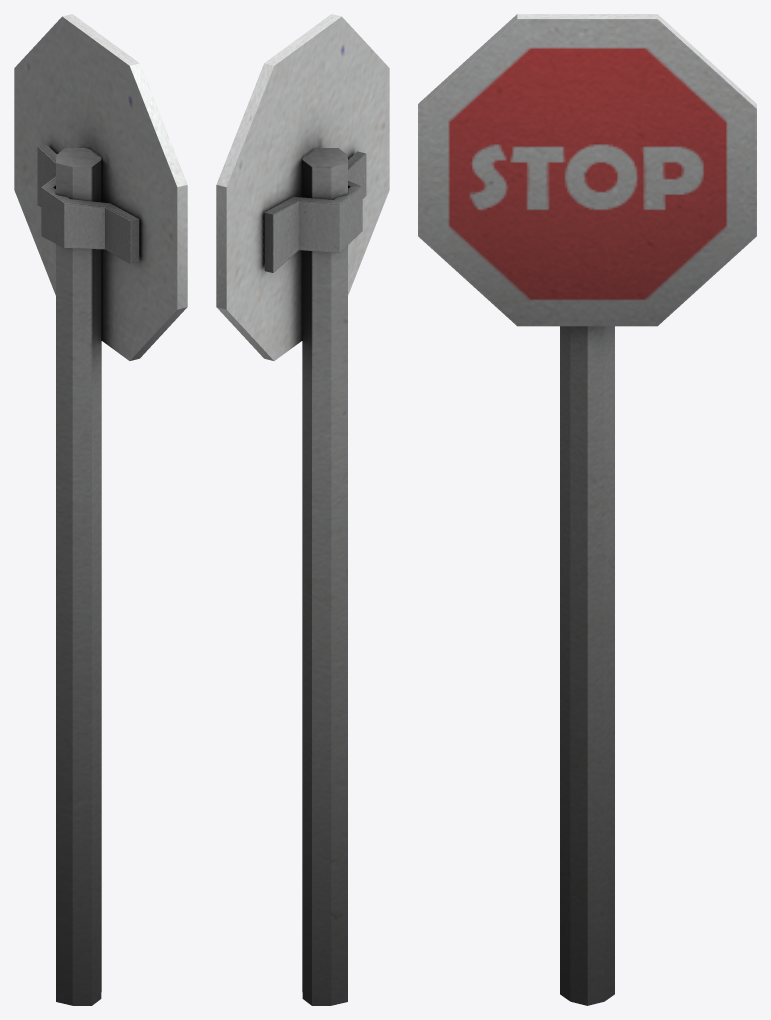
Rendered from Prop_SignStop.FBX.
The picture shows the model from 3 angles, left to right: view 1: azimuth 30°, elevation 25°; view 2: azimuth 150°, elevation 25°; view 3: azimuth 270°, elevation 25°; orthographic projection. The views are drawn at different scales.
Parts seen in each view (by area): view 1: Prop_SignStop; view 2: Prop_SignStop; view 3: Prop_SignStop.
Part boxes in pixels (x1,y1,x2,y2): Prop_SignStop: (14, 14, 187, 1005); Prop_SignStop: (216, 14, 389, 1005); Prop_SignStop: (418, 14, 756, 1005).
Bounding box in the file's own units: 10.36 × 177 × 54.94.
